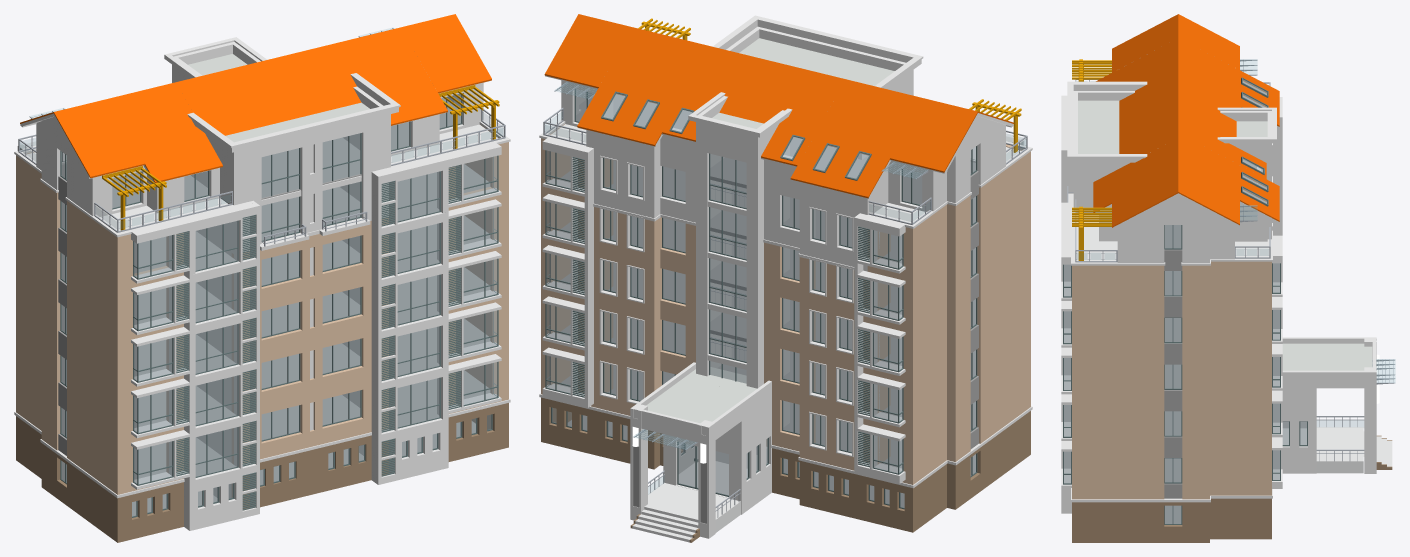
The model's file is building1.glb.
3 renders of one model, left to right at view 1: azimuth 30°, elevation 25°; view 2: azimuth 150°, elevation 25°; view 3: azimuth 270°, elevation 25°, orthographic. The views are drawn at different scales.
Parts seen in each view (by area): view 1: 3DXY_geometry_361, 3DXY_geometry_362, 3DXY_geometry_363, 3DXY_geometry_369, 3DXY_geometry_367, 3DXY_geometry_357, 3DXY_geometry_360, 3DXY_geometry_359, 3DXY_geometry_368, 3DXY_geometry_365, 3DXY_geometry_364, 3DXY_geometry_358 (+1 smaller); view 2: 3DXY_geometry_361, 3DXY_geometry_362, 3DXY_geometry_367, 3DXY_geometry_363, 3DXY_geometry_369, 3DXY_geometry_357, 3DXY_geometry_360, 3DXY_geometry_364, 3DXY_geometry_368, 3DXY_geometry_359, 3DXY_geometry_358, 3DXY_geometry_366 (+1 smaller); view 3: 3DXY_geometry_362, 3DXY_geometry_361, 3DXY_geometry_367, 3DXY_geometry_360, 3DXY_geometry_363, 3DXY_geometry_364, 3DXY_geometry_368, 3DXY_geometry_357, 3DXY_geometry_369, 3DXY_geometry_366, 3DXY_geometry_365, 3DXY_geometry_359 (+1 smaller).
Boxes of the visible parts, x1,y1,x2,y2 form: 3DXY_geometry_361: [14, 37, 510, 530]; 3DXY_geometry_362: [16, 124, 508, 494]; 3DXY_geometry_363: [61, 94, 497, 516]; 3DXY_geometry_369: [61, 98, 490, 516]; 3DXY_geometry_367: [20, 14, 491, 183]; 3DXY_geometry_357: [60, 95, 498, 517]; 3DXY_geometry_360: [16, 403, 508, 542]; 3DXY_geometry_359: [18, 28, 505, 246]; 3DXY_geometry_368: [26, 124, 497, 230]; 3DXY_geometry_365: [102, 85, 499, 230]; 3DXY_geometry_364: [188, 54, 369, 142]; 3DXY_geometry_358: [20, 28, 503, 228]; 3DXY_geometry_361: [539, 15, 1032, 538]; 3DXY_geometry_362: [541, 124, 1030, 484]; 3DXY_geometry_367: [544, 14, 1014, 198]; 3DXY_geometry_363: [546, 89, 975, 507]; 3DXY_geometry_369: [558, 94, 975, 507]; 3DXY_geometry_357: [545, 89, 977, 509]; 3DXY_geometry_360: [541, 397, 1030, 542]; 3DXY_geometry_364: [646, 38, 894, 423]; 3DXY_geometry_368: [550, 124, 1021, 542]; 3DXY_geometry_359: [543, 82, 1027, 517]; 3DXY_geometry_358: [545, 82, 1025, 494]; 3DXY_geometry_366: [586, 92, 978, 523]; 3DXY_geometry_362: [1072, 261, 1271, 499]; 3DXY_geometry_361: [1061, 50, 1376, 513]; 3DXY_geometry_367: [1093, 14, 1279, 227]; 3DXY_geometry_360: [1072, 435, 1392, 542]; 3DXY_geometry_363: [1064, 79, 1306, 523]; 3DXY_geometry_364: [1078, 100, 1372, 370]; 3DXY_geometry_368: [1076, 215, 1392, 473]; 3DXY_geometry_357: [1063, 77, 1307, 524]; 3DXY_geometry_369: [1165, 192, 1256, 523]; 3DXY_geometry_366: [1164, 249, 1182, 498]; 3DXY_geometry_365: [1072, 59, 1111, 260]; 3DXY_geometry_359: [1067, 59, 1395, 461].
Bounding box in the file's own units: 473 × 438 × 376.
